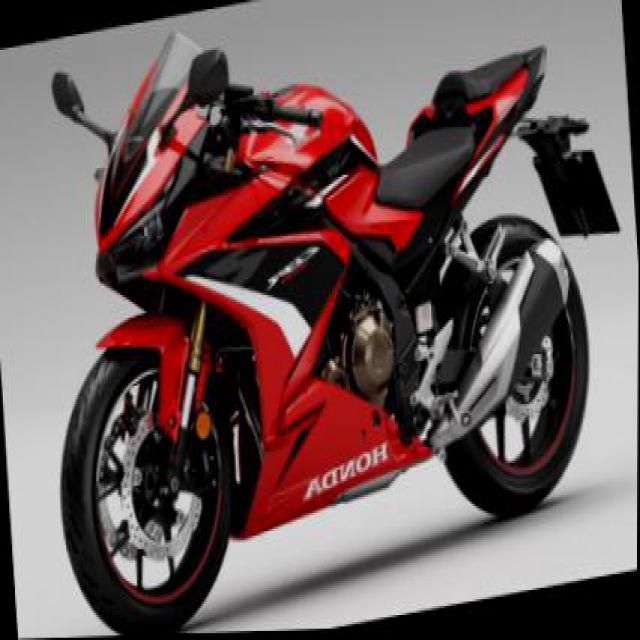CBR500R: (28, 0, 606, 638)
